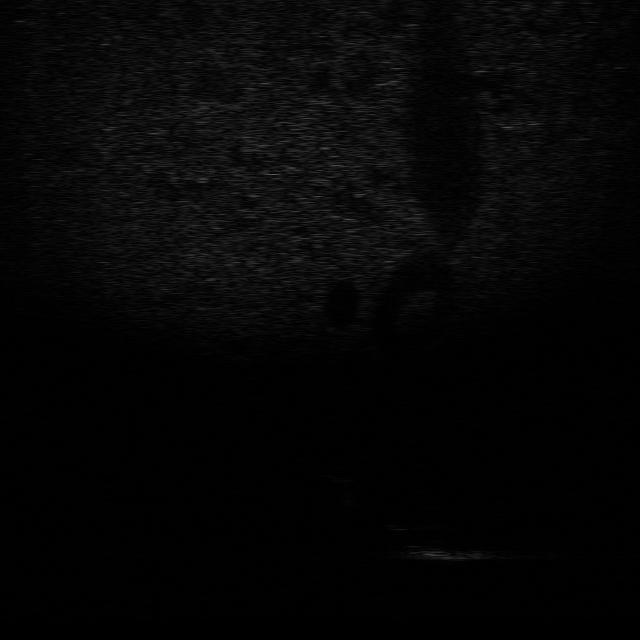ball: (319, 458, 366, 486)
metal bucket: (394, 535, 478, 569)
tyre: (382, 500, 456, 534)
